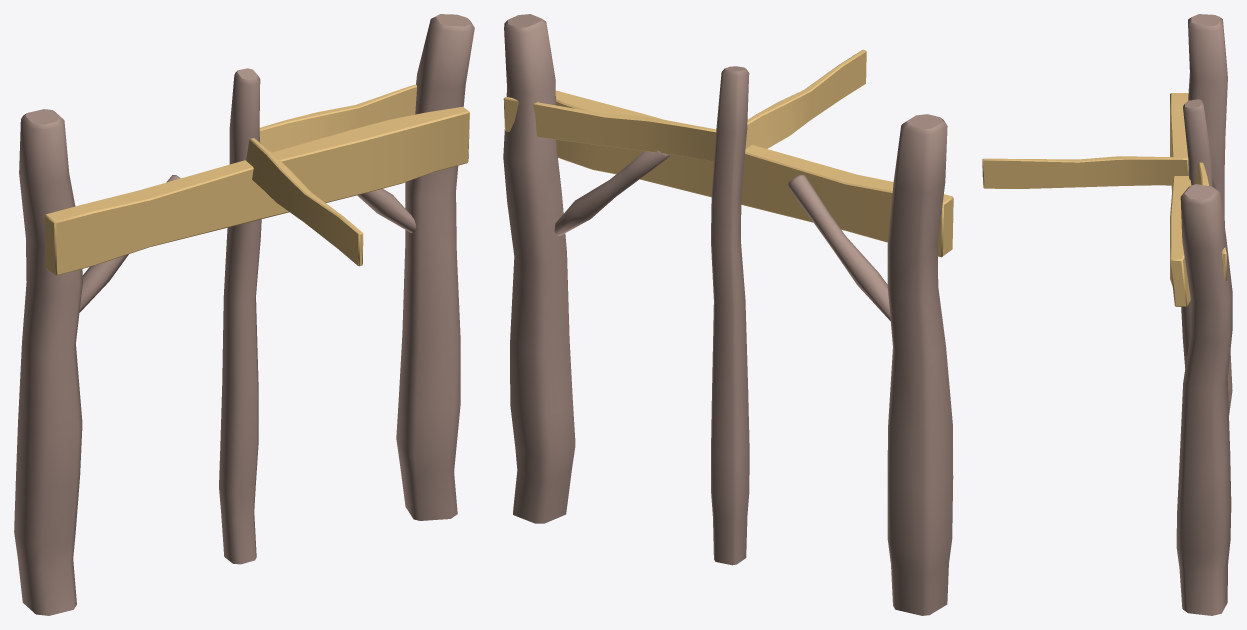
File: Señaladores.fbx
3 views of the same model, side by side, from view 1: azimuth 30°, elevation 25°; view 2: azimuth 150°, elevation 25°; view 3: azimuth 270°, elevation 25° (orthographic). The views are drawn at different scales.
Visible parts, largest first — view 1: Señalador, Señalador.001; view 2: Señalador, Señalador.001; view 3: Señalador, Señalador.001.
Part boxes in pixels (x1,y1,x2,y2): Señalador: [14, 14, 474, 615]; Señalador.001: [219, 68, 416, 564]; Señalador: [503, 14, 953, 615]; Señalador.001: [503, 49, 866, 565]; Señalador: [1170, 14, 1232, 615]; Señalador.001: [982, 99, 1226, 280].
Size of the model in its own units: 265 by 277 by 148.
